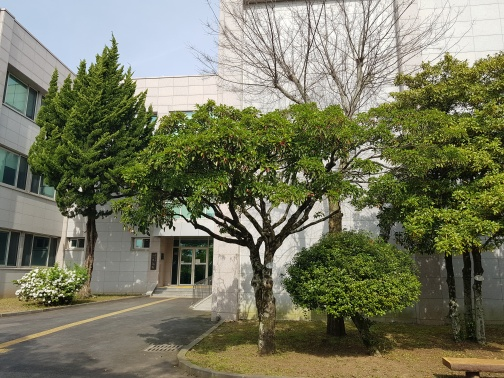College of Nursing: (8, 7, 479, 324)
